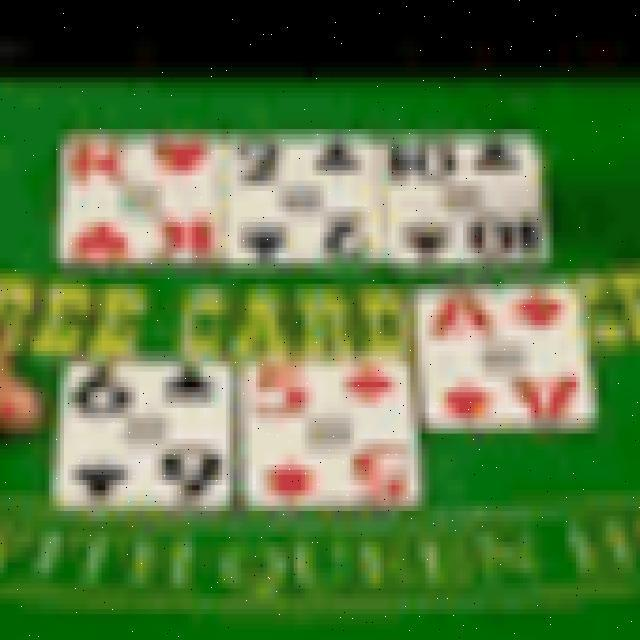Card-10: (382, 130, 544, 260)
Card-2: (224, 131, 377, 266)
Card-5: (252, 352, 416, 511)
Card-6: (60, 352, 232, 509)
Card-A: (420, 284, 593, 430)
Card-K: (62, 131, 223, 262)
